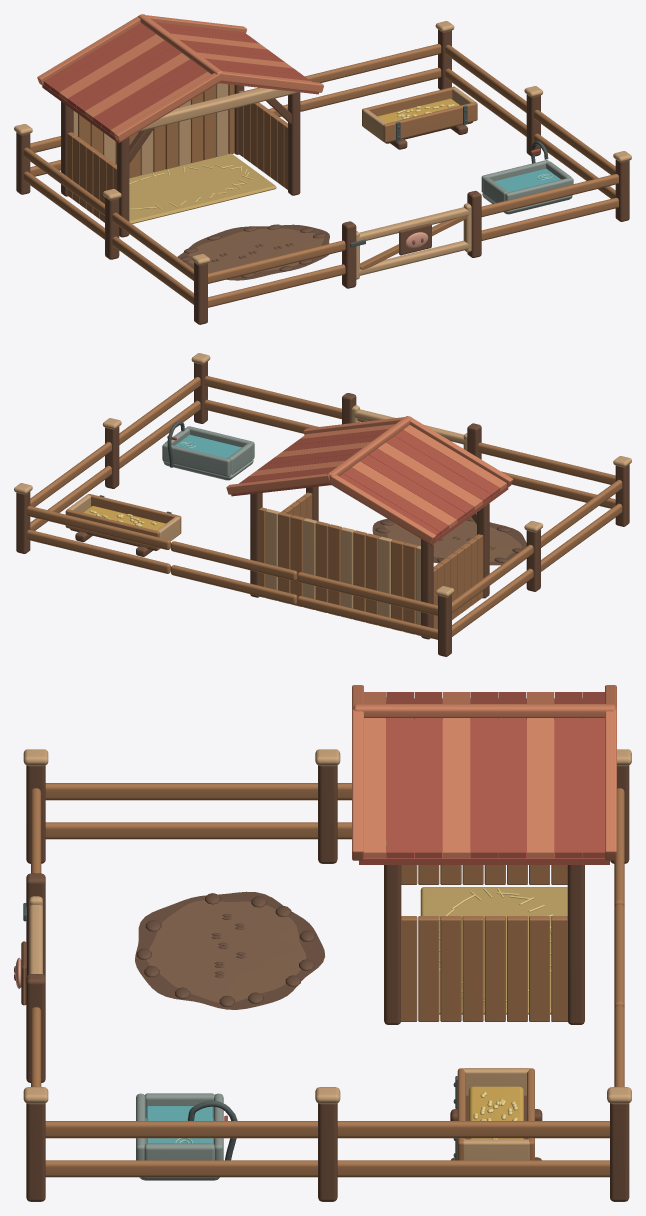
The model's file is pigsty.glb.
3 views of the same model, one above another, from view 1: azimuth 30°, elevation 25°; view 2: azimuth 150°, elevation 25°; view 3: azimuth 270°, elevation 25° (orthographic). The views are drawn at different scales.
Parts seen in each view (by area): view 1: ShelterStatic, FenceStatic, MudSurface, GateLeaf, FeedTroughStatic, WaterTroughStatic, WaterSurface, FeedGrain; view 2: ShelterStatic, FenceStatic, WaterTroughStatic, MudSurface, FeedTroughStatic, WaterSurface, GateLeaf, FeedGrain; view 3: ShelterStatic, FenceStatic, MudSurface, FeedTroughStatic, WaterTroughStatic, FeedGrain, GateLeaf, WaterSurface.
Boxes of the visible parts, x1,y1,x2,y2 form: ShelterStatic: (37,14,323,237); FenceStatic: (14,21,631,324); MudSurface: (177,224,329,280); GateLeaf: (350,203,471,279); FeedTroughStatic: (362,86,477,149); WaterTroughStatic: (481,141,573,214); WaterSurface: (494,168,560,192); FeedGrain: (377,98,459,123); ShelterStatic: (226,416,513,639); FenceStatic: (14,353,631,656); WaterTroughStatic: (162,421,254,480); MudSurface: (372,517,526,565); FeedTroughStatic: (65,494,181,556); WaterSurface: (175,435,241,458); GateLeaf: (352,405,467,450); FeedGrain: (83,506,165,530); ShelterStatic: (352,685,616,1024); FenceStatic: (23,749,631,1201); MudSurface: (135,891,325,1009); FeedTroughStatic: (450,1068,542,1160); WaterTroughStatic: (136,1093,237,1180); FeedGrain: (468,1086,523,1139); GateLeaf: (14,896,42,1005); WaterSurface: (146,1106,212,1143).
Bounding box in the file's own units: 7.63 × 2.55 × 5.72.
